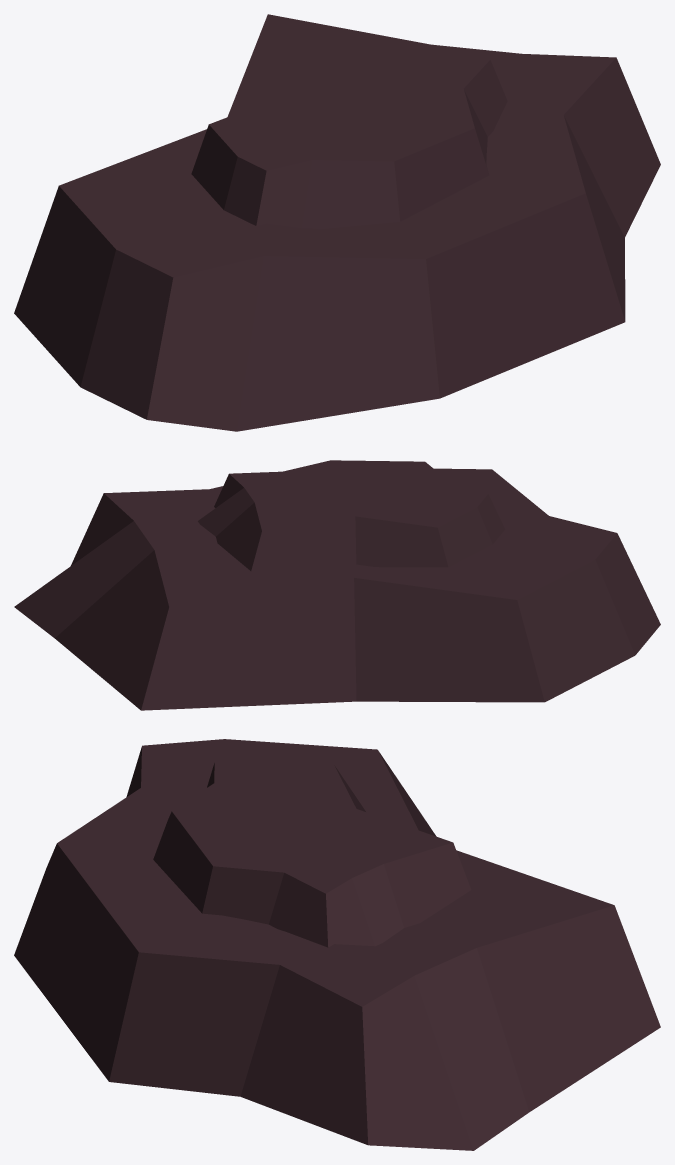
Rendered from rock-2.fbx.
3 renders of one model, top to bottom at view 1: azimuth 30°, elevation 25°; view 2: azimuth 150°, elevation 25°; view 3: azimuth 270°, elevation 25°, orthographic. The views are drawn at different scales.
Parts seen in each view (by area): view 1: Rock 1.002; view 2: Rock 1.002; view 3: Rock 1.002.
Boxes of the visible parts, bbox=[...] form: Rock 1.002: bbox=[14, 14, 660, 431]; Rock 1.002: bbox=[14, 460, 660, 710]; Rock 1.002: bbox=[14, 739, 660, 1150].
Bounding box in the file's own units: 840 × 220 × 726.
